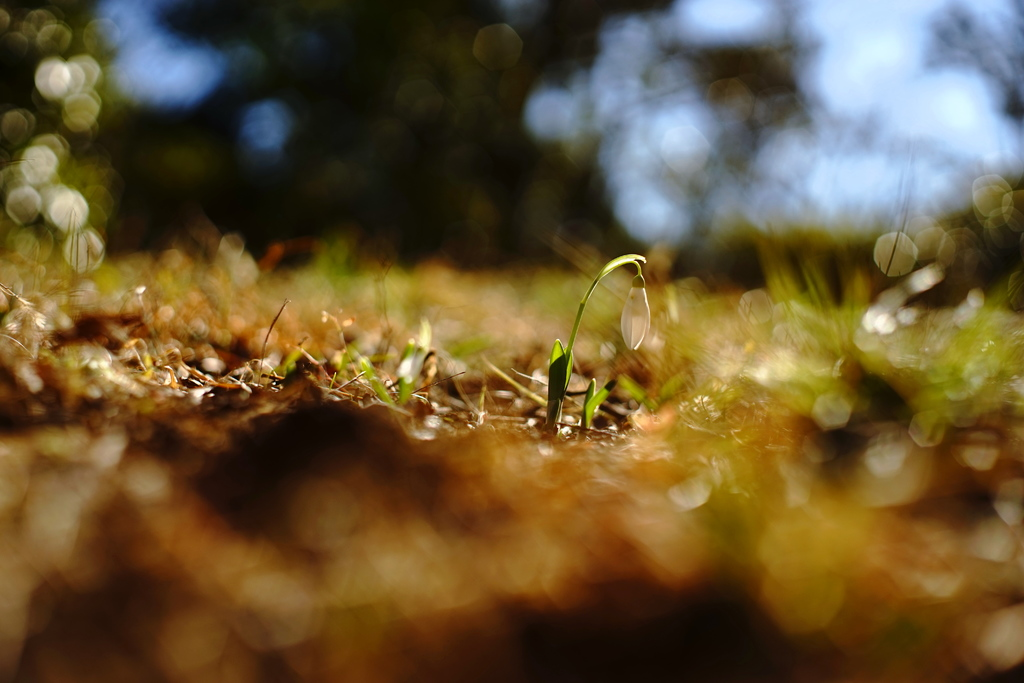Tree: (145, 0, 679, 257)
